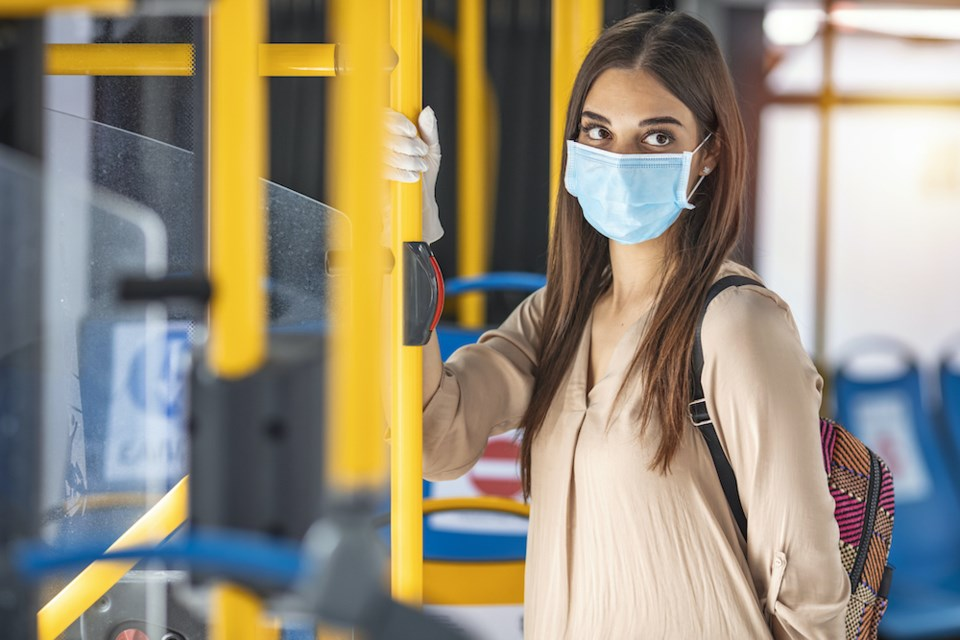with_mask: (578, 66, 690, 237)
